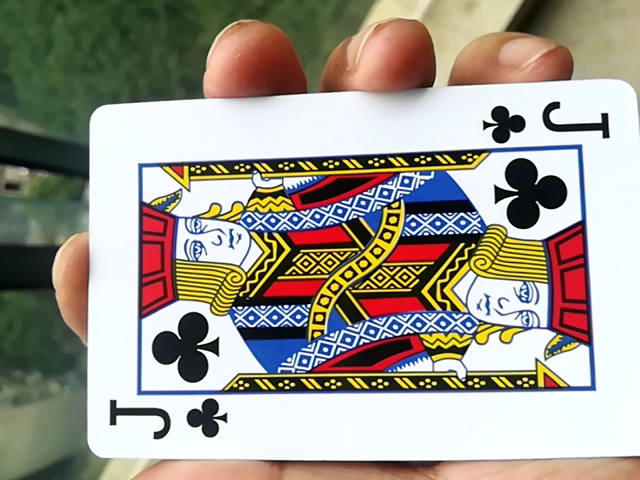mh j: (62, 100, 631, 468)
